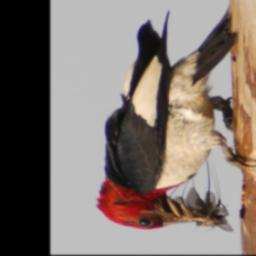Woodpecker: (97, 8, 256, 230)
